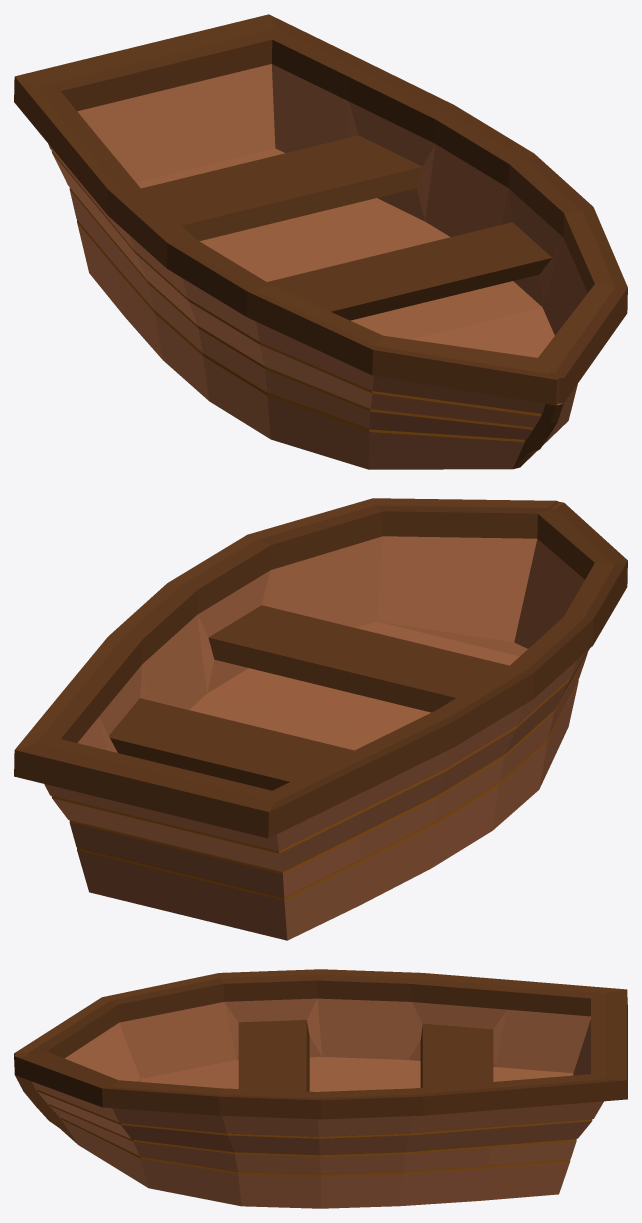
File: Starter Boat.fbx
The picture shows the model from 3 angles, top to bottom: view 1: azimuth 30°, elevation 25°; view 2: azimuth 150°, elevation 25°; view 3: azimuth 270°, elevation 25°; orthographic projection. The views are drawn at different scales.
Parts seen in each view (by area): view 1: Cube; view 2: Cube; view 3: Cube.
Part boxes in pixels (x1=…): Cube: x1=14, y1=14, x2=627, y2=469; Cube: x1=14, y1=498, x2=627, y2=940; Cube: x1=14, y1=969, x2=627, y2=1208.
Bounding box in the file's own units: 401 × 177 × 793.
